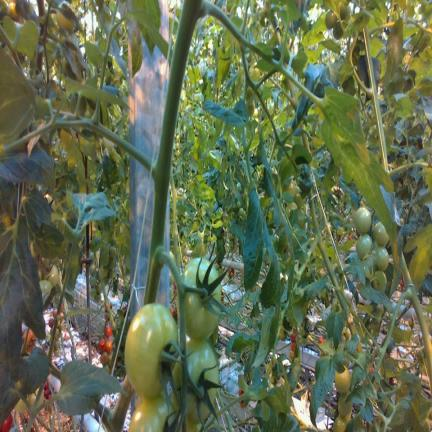6kp_peduncle: (144, 219, 183, 302)
6kp_petiole: (118, 115, 177, 218), (393, 270, 421, 319), (355, 71, 381, 116), (307, 216, 326, 257)
MainStem: (144, 1, 204, 303), (402, 252, 432, 384), (363, 28, 388, 171), (310, 185, 340, 287)
tomato: (125, 303, 178, 398), (172, 339, 219, 423), (182, 258, 221, 338), (129, 395, 168, 431), (354, 207, 371, 234), (335, 368, 351, 394), (56, 10, 74, 33), (21, 328, 36, 354), (15, 380, 27, 412), (356, 234, 372, 258), (373, 222, 388, 246), (374, 246, 389, 270), (45, 264, 59, 286), (338, 394, 352, 416), (372, 270, 387, 290), (40, 280, 52, 303), (332, 414, 347, 431), (27, 390, 44, 404), (325, 10, 337, 29), (0, 414, 13, 431), (339, 3, 351, 20), (8, 0, 18, 20), (333, 22, 343, 39), (286, 180, 296, 197), (246, 98, 255, 116), (187, 420, 201, 431), (286, 202, 297, 216), (298, 209, 305, 228), (294, 192, 302, 208), (105, 339, 113, 354), (100, 351, 108, 366), (98, 338, 105, 354), (246, 86, 253, 102), (100, 266, 108, 278), (105, 325, 112, 337), (109, 246, 116, 258), (108, 258, 115, 270), (95, 282, 102, 294), (89, 263, 95, 275), (90, 287, 96, 299), (89, 276, 96, 286), (94, 294, 101, 302), (108, 270, 114, 278), (236, 182, 241, 190), (254, 108, 258, 117), (236, 201, 241, 208), (239, 208, 243, 216), (243, 210, 246, 218)
